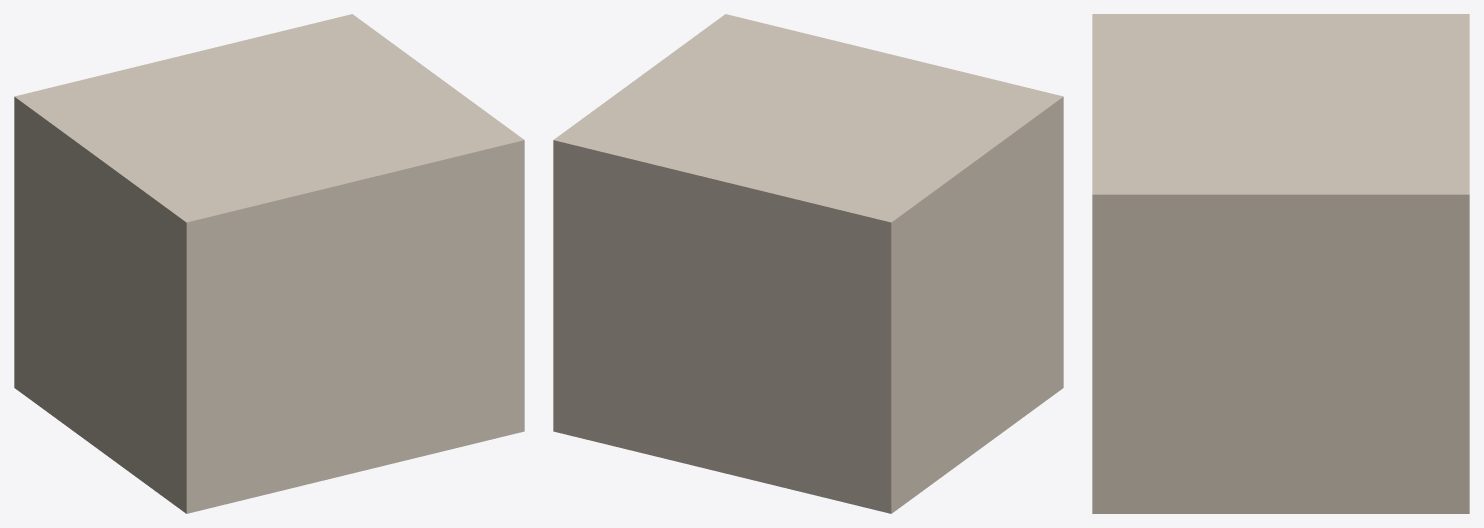
The model's file is stove.glb.
The picture shows the model from 3 angles, left to right: view 1: azimuth 30°, elevation 25°; view 2: azimuth 150°, elevation 25°; view 3: azimuth 270°, elevation 25°; orthographic projection. The views are drawn at different scales.
Visible parts, largest first — view 1: Body; view 2: Body; view 3: Body.
Part boxes in pixels (left/top/right/bottom): Body: left=14, top=14, right=524, bottom=513; Body: left=553, top=14, right=1063, bottom=513; Body: left=1092, top=14, right=1469, bottom=513.
Size of the model in its own units: 0.85 by 0.7 by 0.75.
